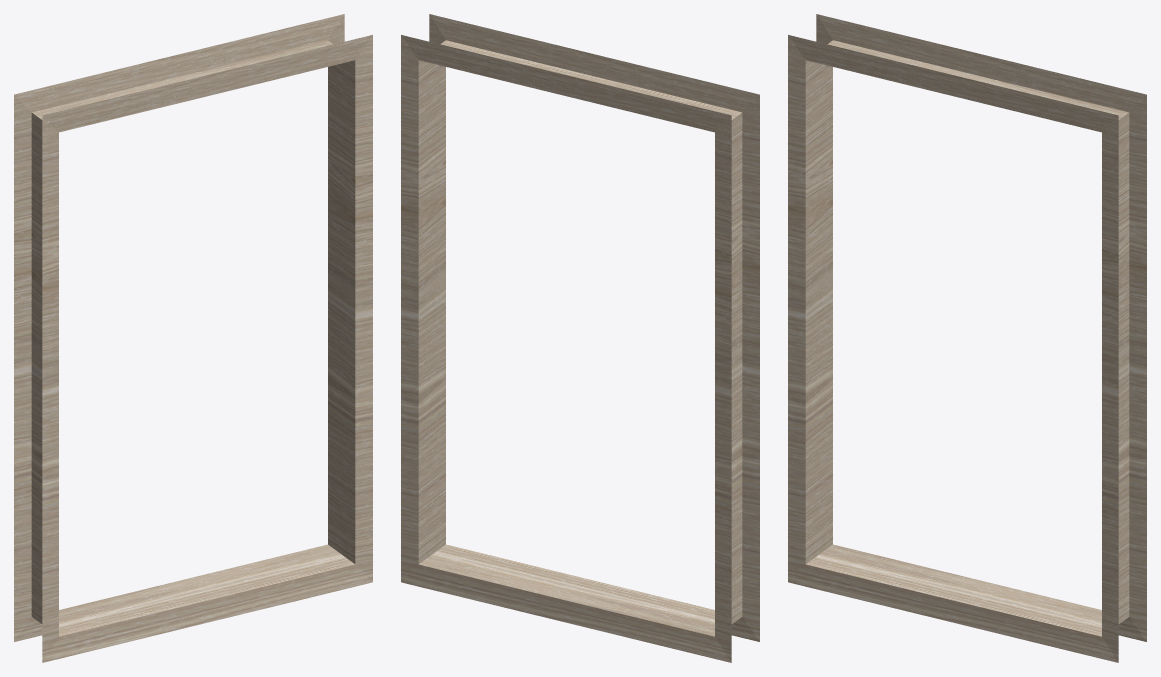
The model's file is FLAT_casement_01.FBX.
3 renders of one model, left to right at view 1: azimuth 30°, elevation 25°; view 2: azimuth 150°, elevation 25°; view 3: azimuth 330°, elevation 25°, orthographic.
Parts seen in each view (by area): view 1: FLAT_casement_01; view 2: FLAT_casement_01; view 3: FLAT_casement_01.
Part boxes in pixels (box(x1,y1,x2,y2)): FLAT_casement_01: box(14, 14, 372, 662); FLAT_casement_01: box(401, 14, 759, 662); FLAT_casement_01: box(788, 14, 1146, 662).
Size of the model in its own units: 168 by 266 by 25.
1 material, 1 textured.
